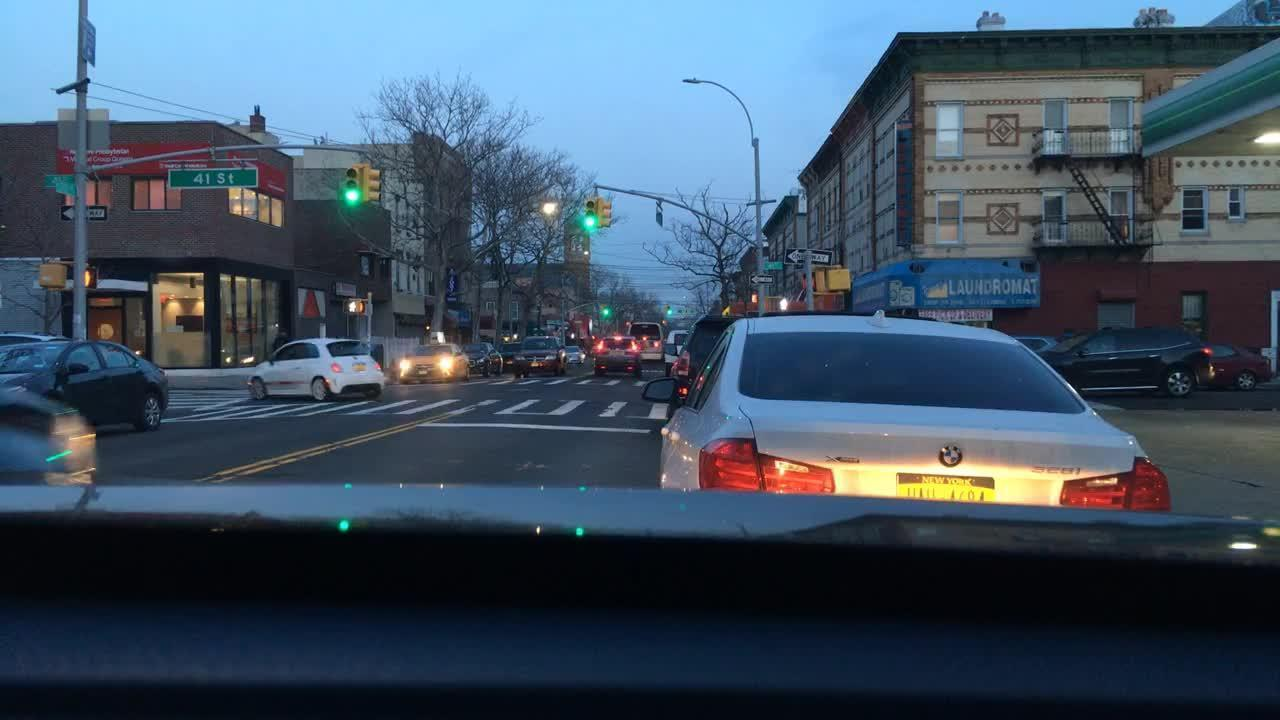bmw: (926, 440, 972, 472)
